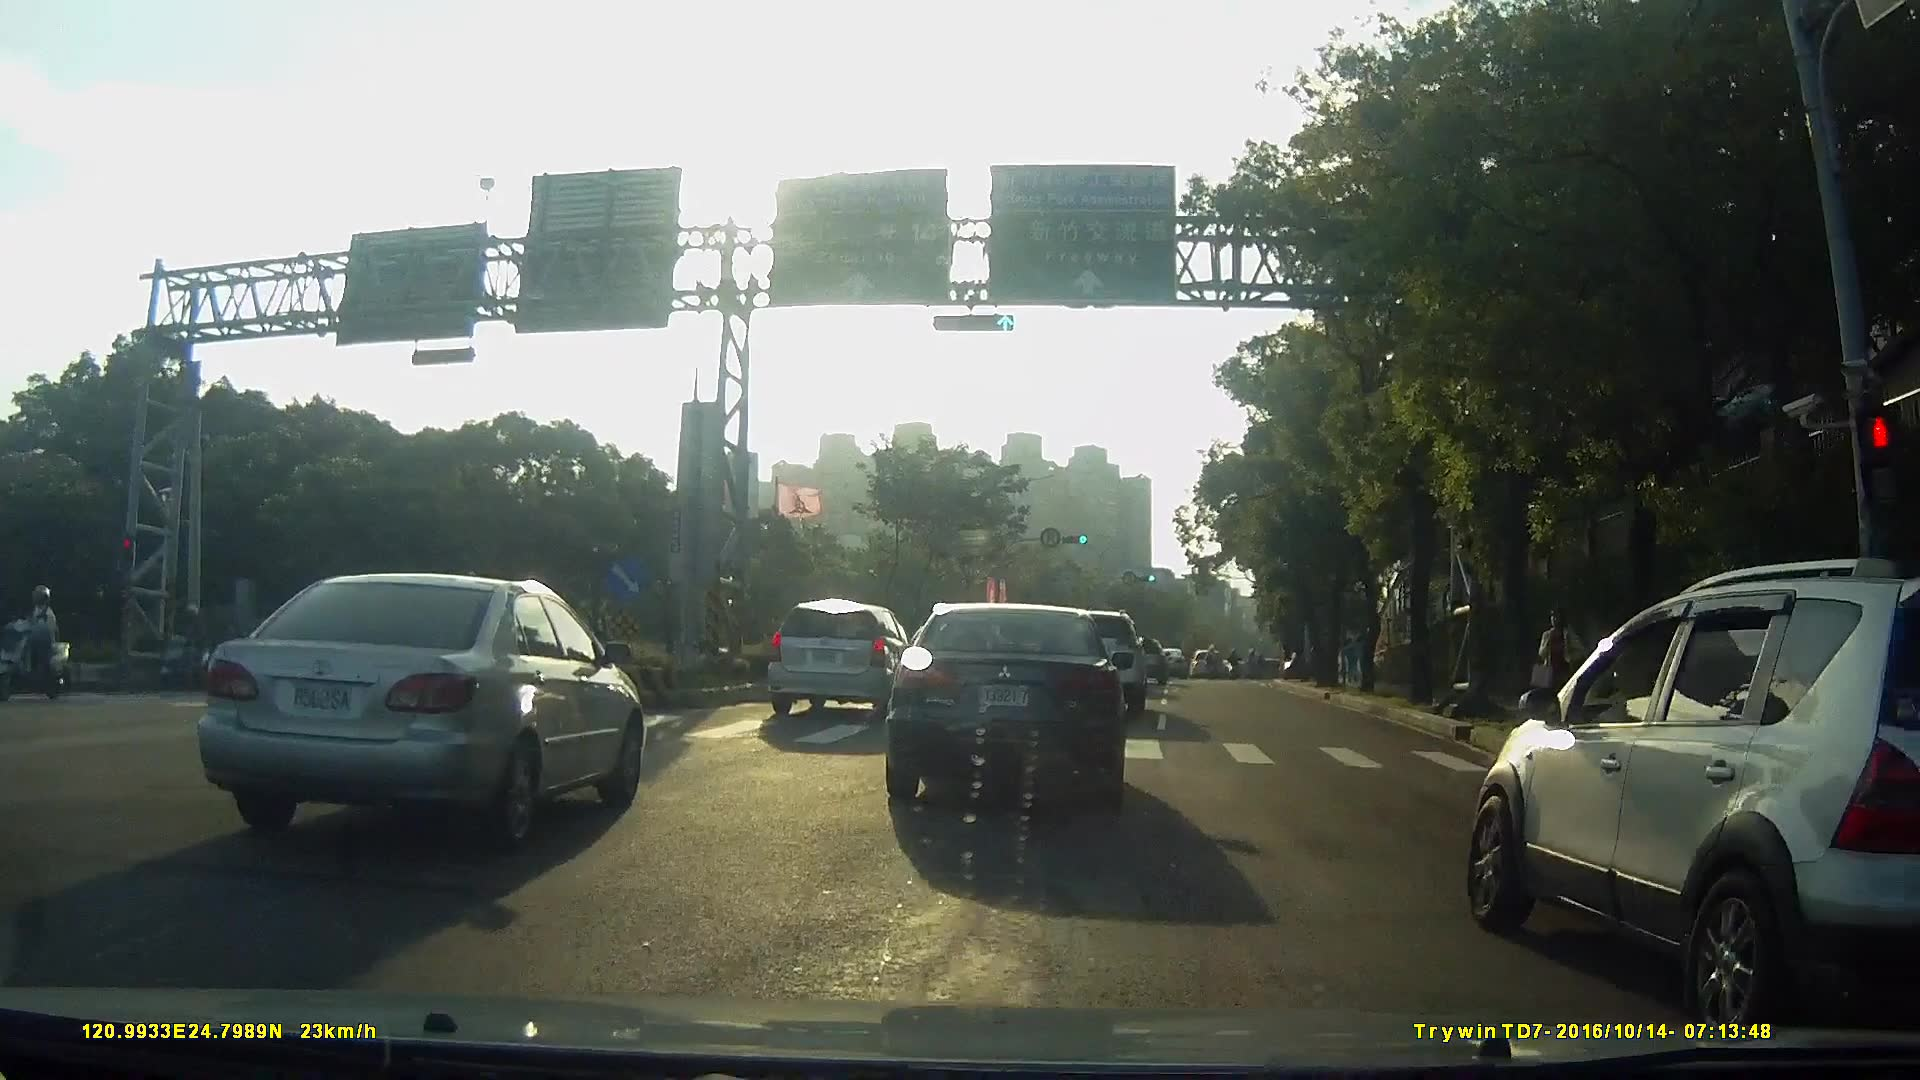rider: (1, 587, 72, 701), (143, 602, 205, 693)
vehicle: (1441, 555, 1920, 1033), (179, 564, 662, 852), (870, 599, 1144, 814), (754, 596, 908, 718), (1147, 644, 1181, 677), (1179, 643, 1212, 675)
